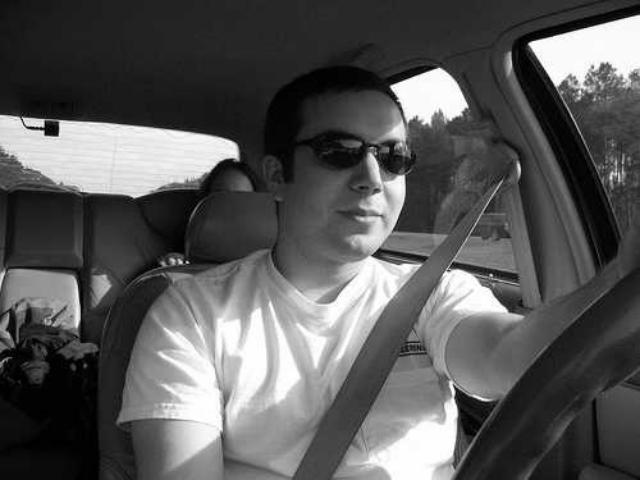SafeDriving: (316, 137, 363, 165)
Seatbelt: (287, 138, 525, 480)
